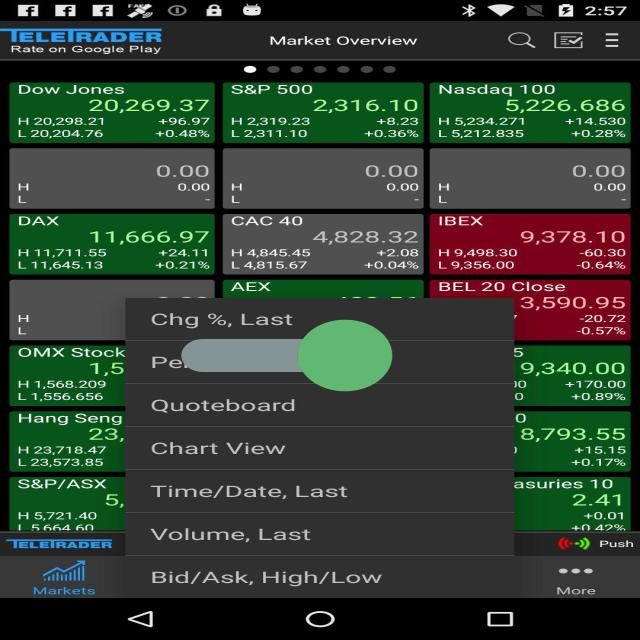social proof: (182, 276, 392, 435)
